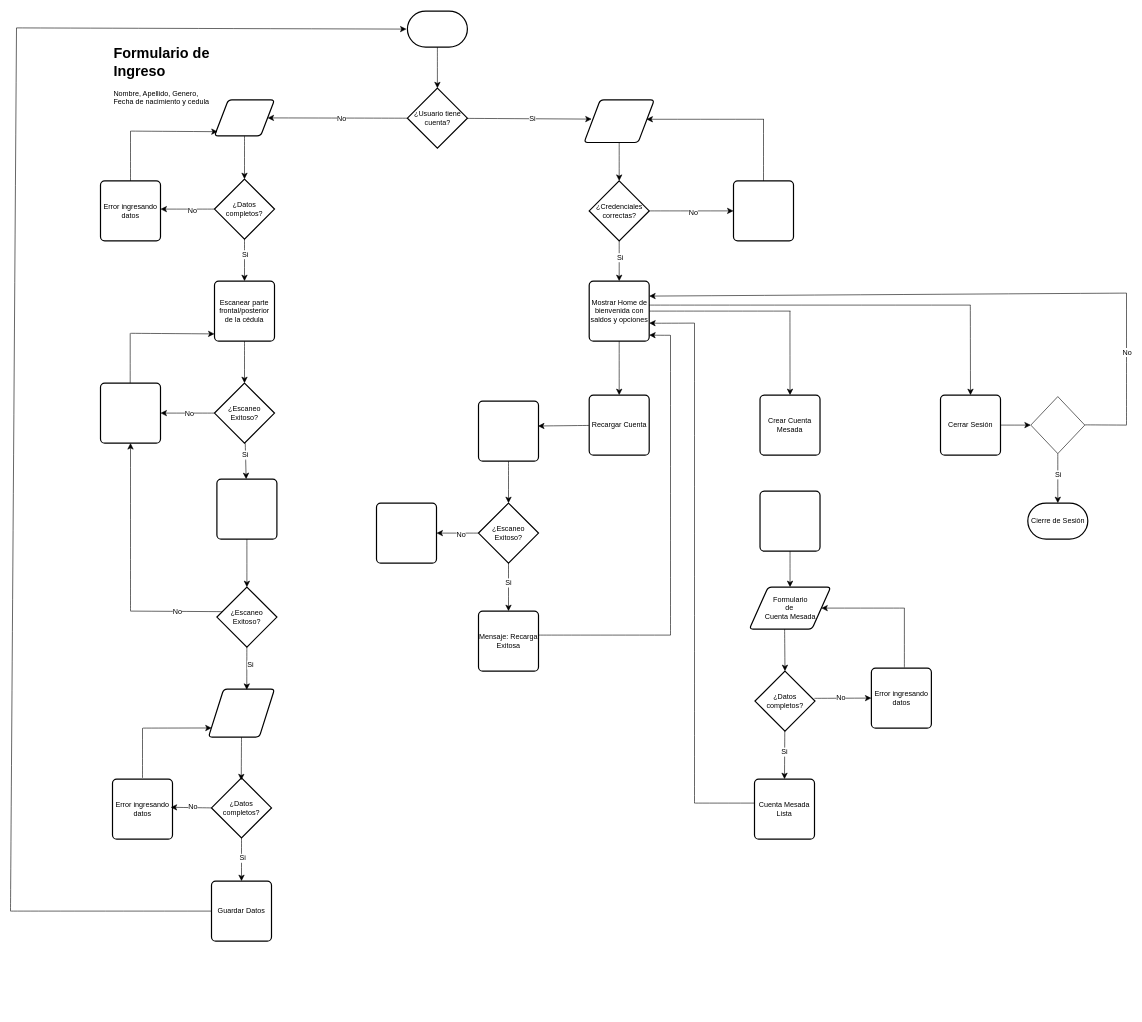
Image size: 1142x1022. Some labels were removed from this diagram. The box of each missing label's shape, as (x1, y1, x2, y2) in pixels:
Botón de Continuar: (759, 490, 820, 551)
Error en inicio de sesión: (733, 180, 794, 241)
Error Escaneando: (100, 382, 161, 443)
Escanear Rostro: (216, 478, 277, 539)
Formulario de Ingreso: (214, 99, 275, 136)
Ingresa su usuario y contraseña: (583, 99, 655, 143)
Ingresa usuario, contraseña y correo: (208, 688, 275, 737)
INICIO SESIÓN: (406, 10, 468, 47)
Mensaje: Recarga Fallida: (376, 502, 437, 563)
Mostrar Escaner: (478, 400, 539, 461)
¿Confirmar cerrar sesión?: (1030, 396, 1085, 454)
